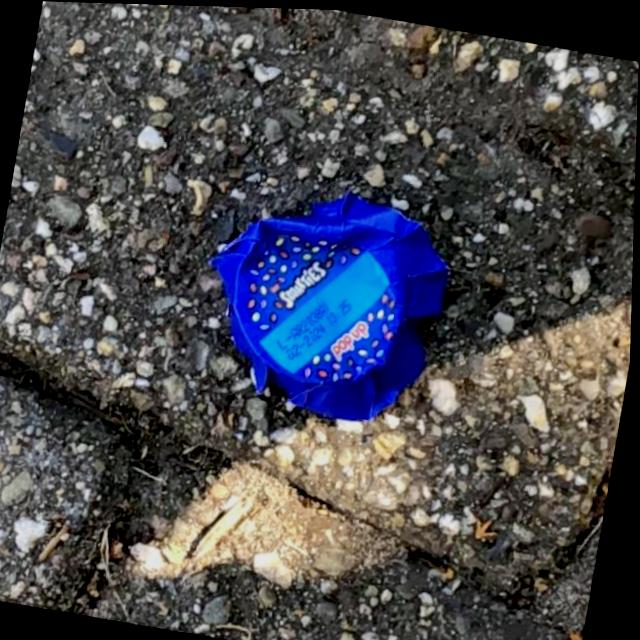Paper: (181, 156, 470, 436)
